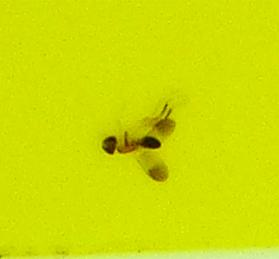Brachycera: (100, 100, 179, 159)
